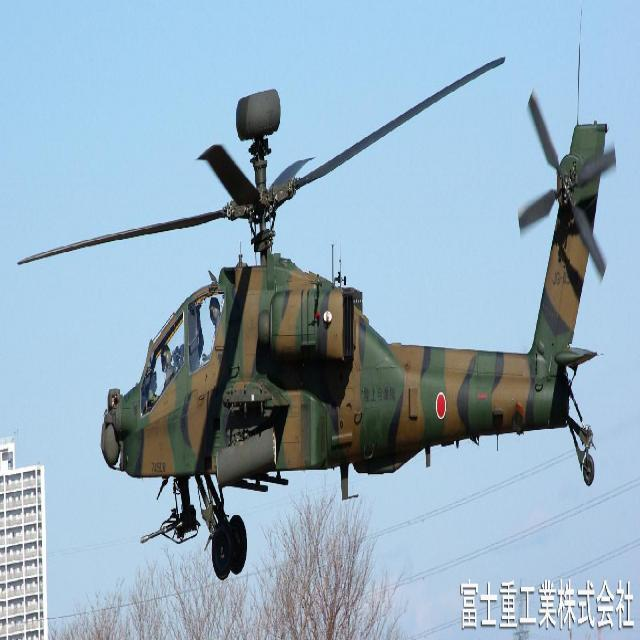MIL_HELO: (10, 42, 635, 590)
